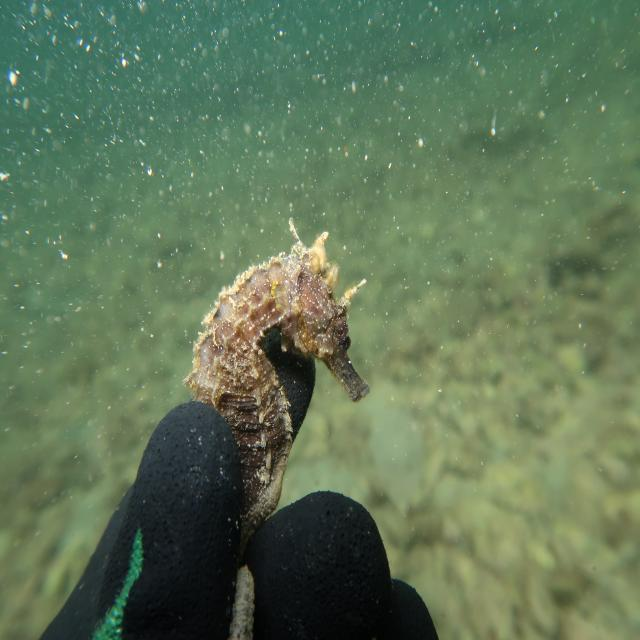Guttu: (274, 241, 374, 409)
